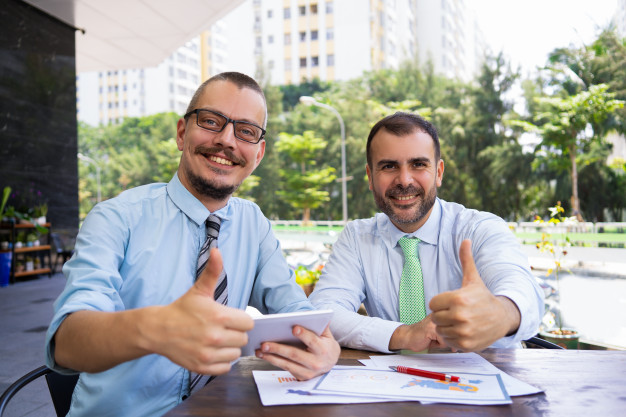thumbsup: (183, 247, 254, 374), (428, 238, 481, 353)
